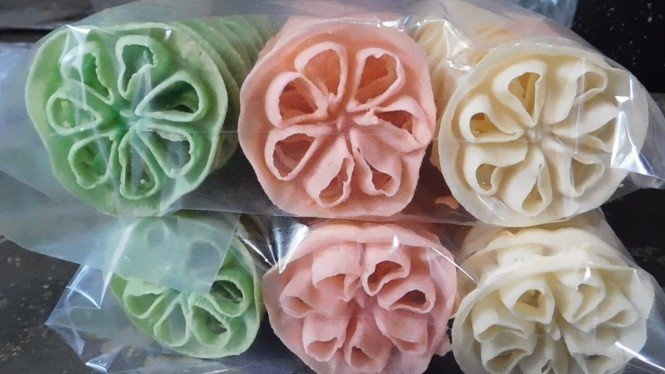kembang_goyang: (234, 10, 426, 212)
